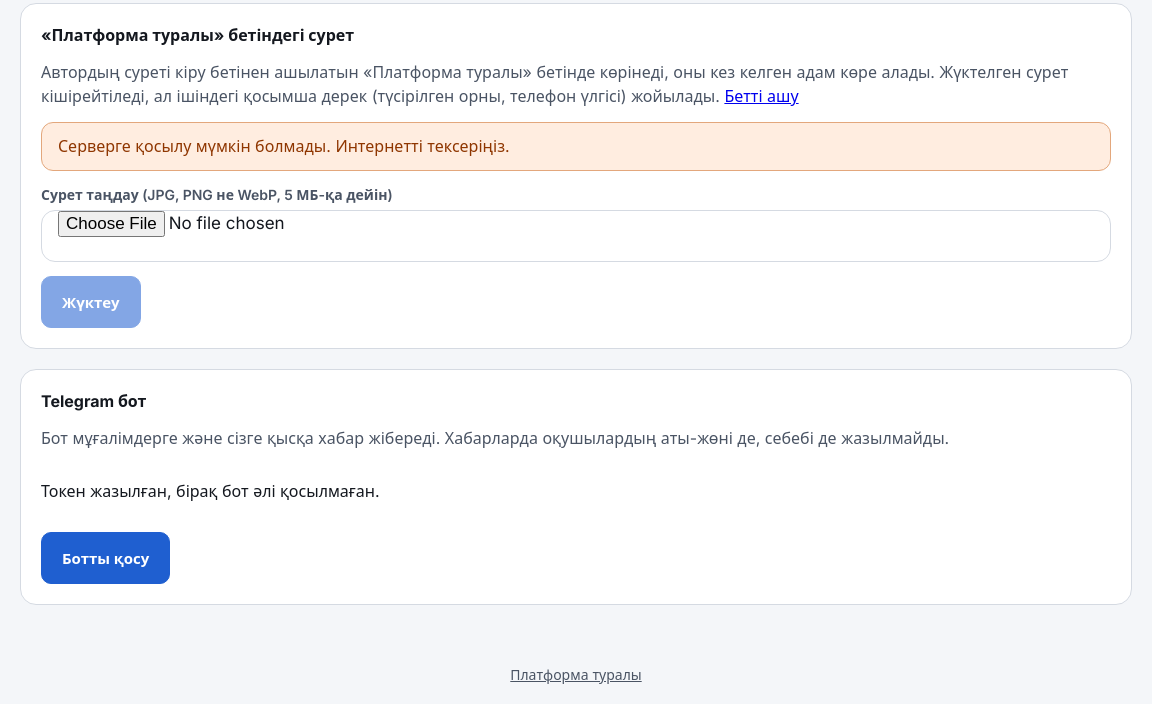
Test case: завуч ботты қосады › «Ботты қосу» сәтті өтсе боттың атауы мен күйі көрінеді, жеке байланыстыру бөлігі бірден шығады
The image size is (1152, 704).
(page scrolled)
Expected: the element "Telegram хабарлары" is not shown
Expected: the text "Токен жазылған, бірақ бот әлі қосылмаған." is shown, top-left (41, 480), bottom-right (380, 502)
Click the button "Ботты қосу" at (106, 558), box top-left (41, 532), bottom-right (170, 584)
(page scrolled)
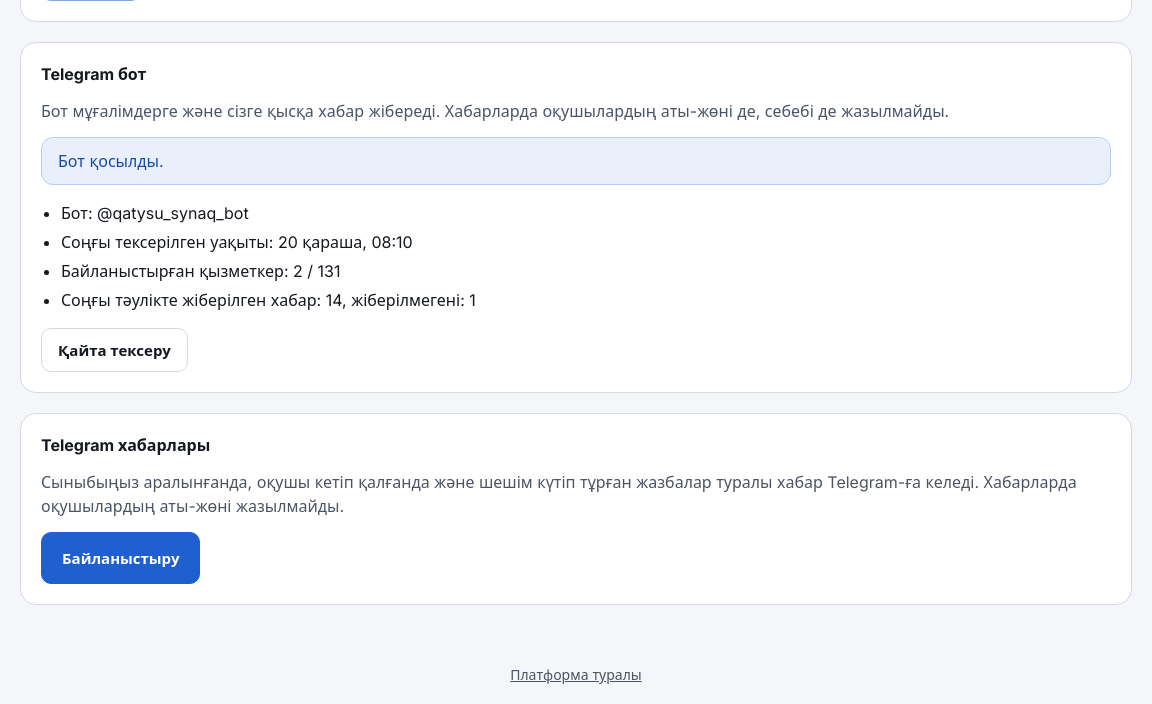
Expected: the text "Бот қосылды." is shown, top-left (41, 137), bottom-right (1111, 185)
Expected: the list item "Бот: @qatysu_synaq_bot" is shown, top-left (61, 203), bottom-right (249, 223)
Expected: the list item "Соңғы тексерілген уақыты: 20 қараша, 08:10" is shown, top-left (61, 232), bottom-right (413, 252)
